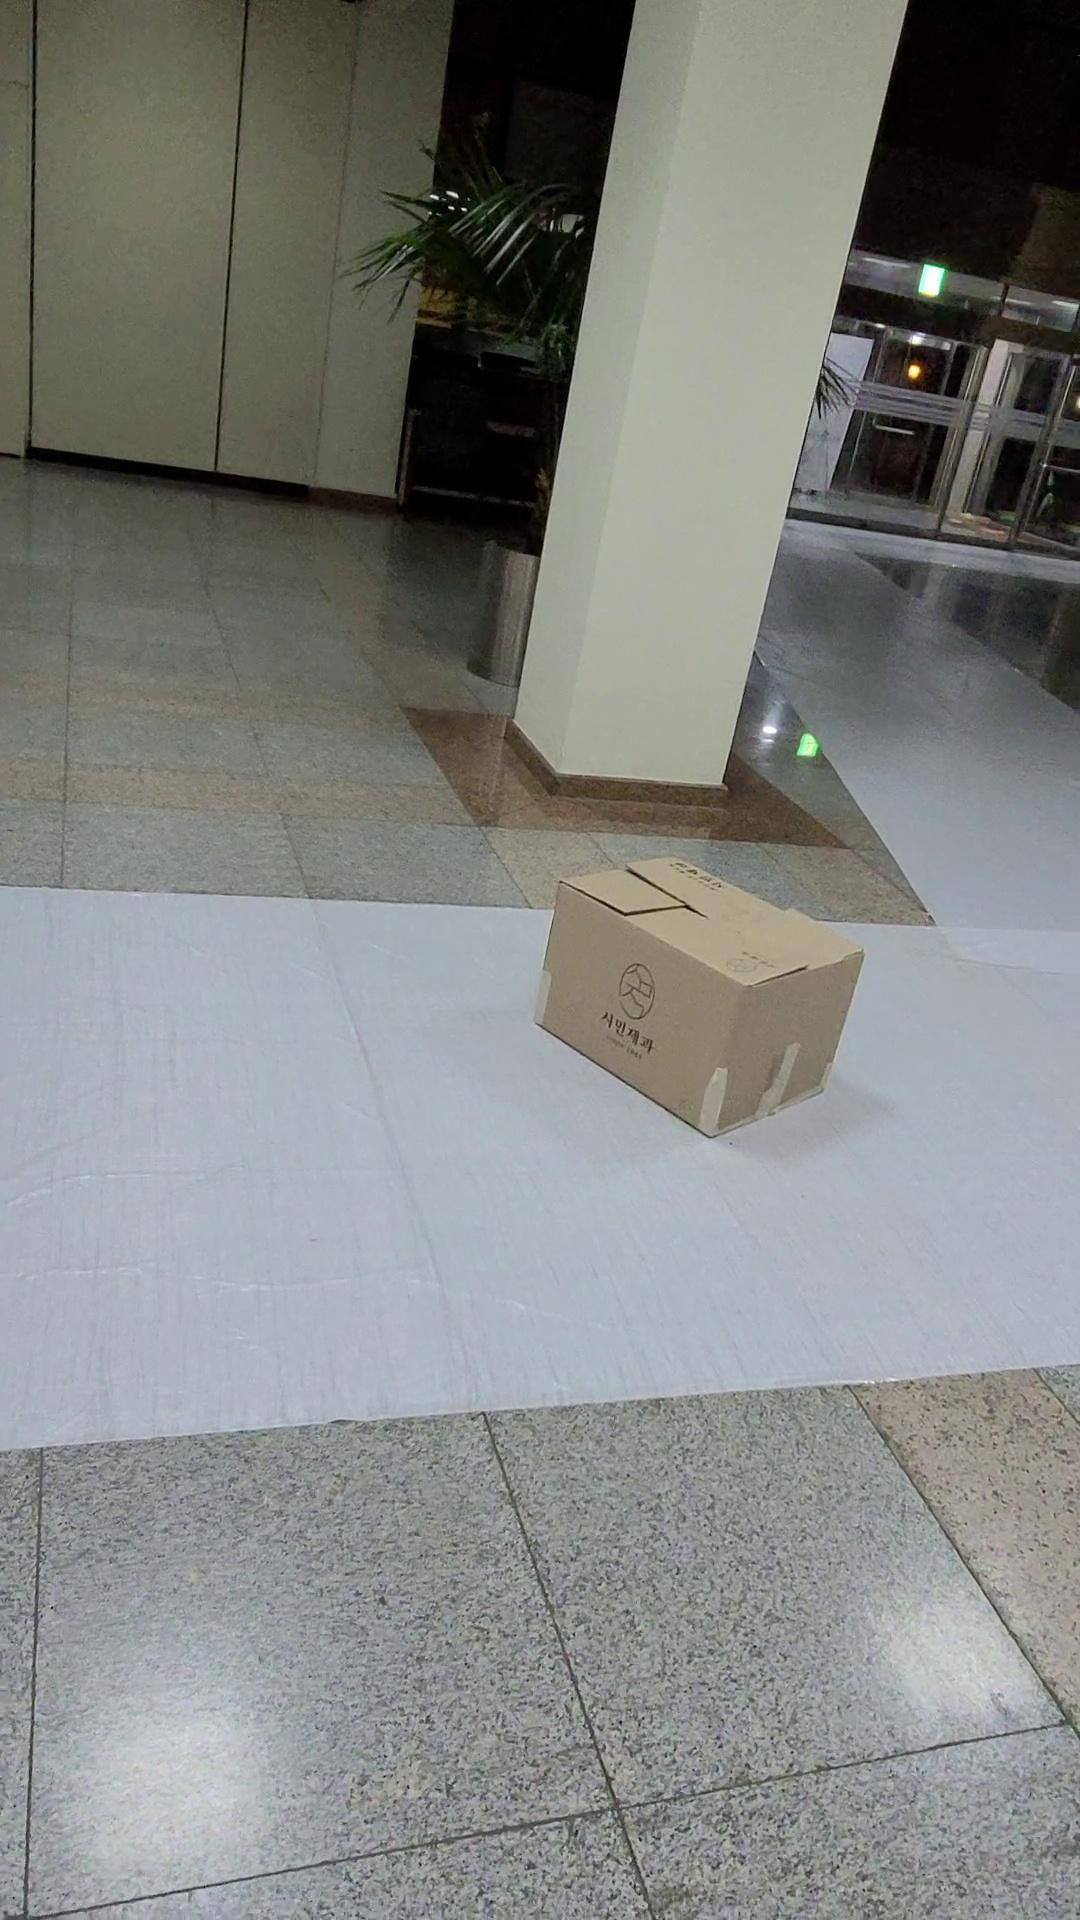Box: (487, 845, 905, 1162)
